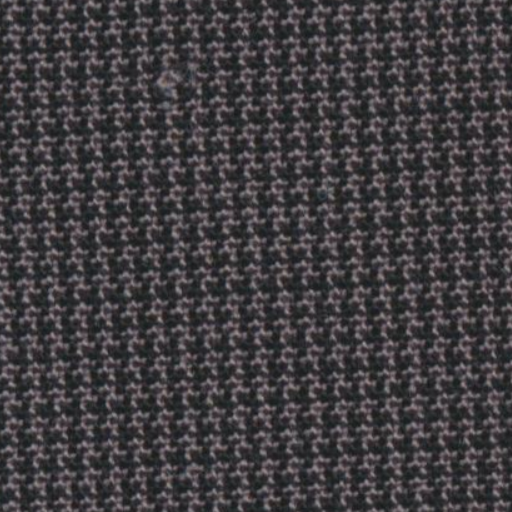PoDong: (136, 52, 221, 111)
